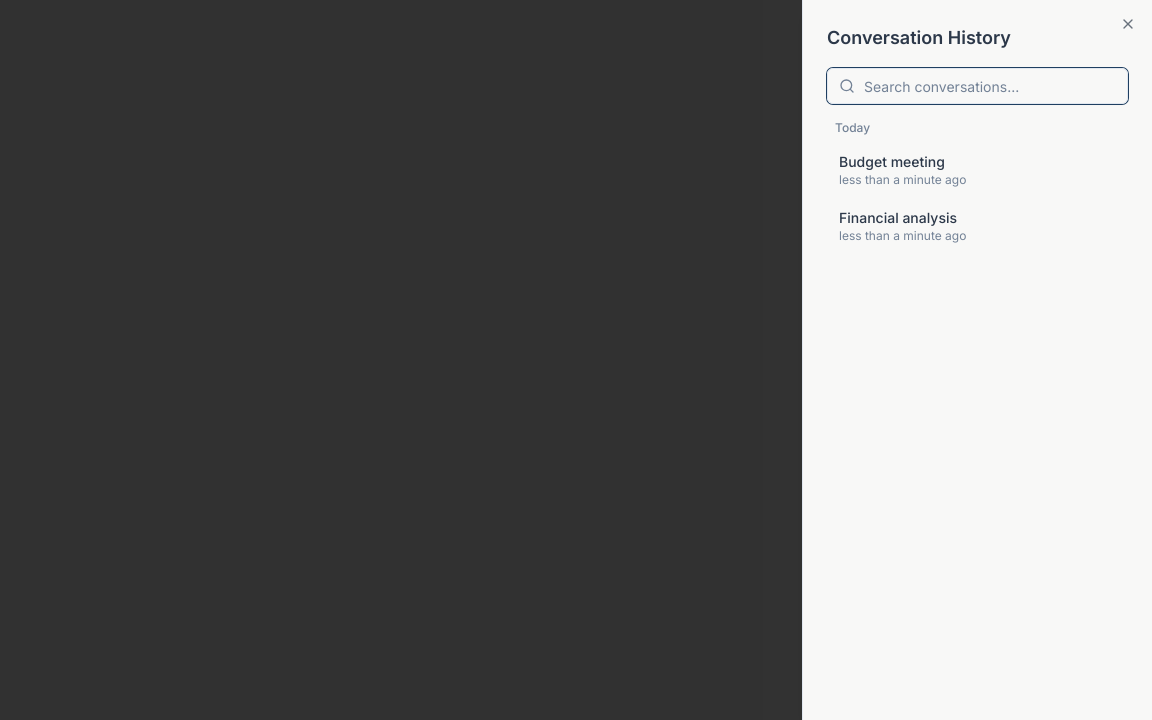
ConversationHistoryPanel › filters conversations by search query
The width and height of the screenshot is (1152, 720).
# Use fireEvent instead of userEvent for fake timers compatibility
Type "budget" into the field with placeholder "Search conversations..." at (978, 86), box x1=827 y1=68 x2=1128 y2=104
Wait 300 ms
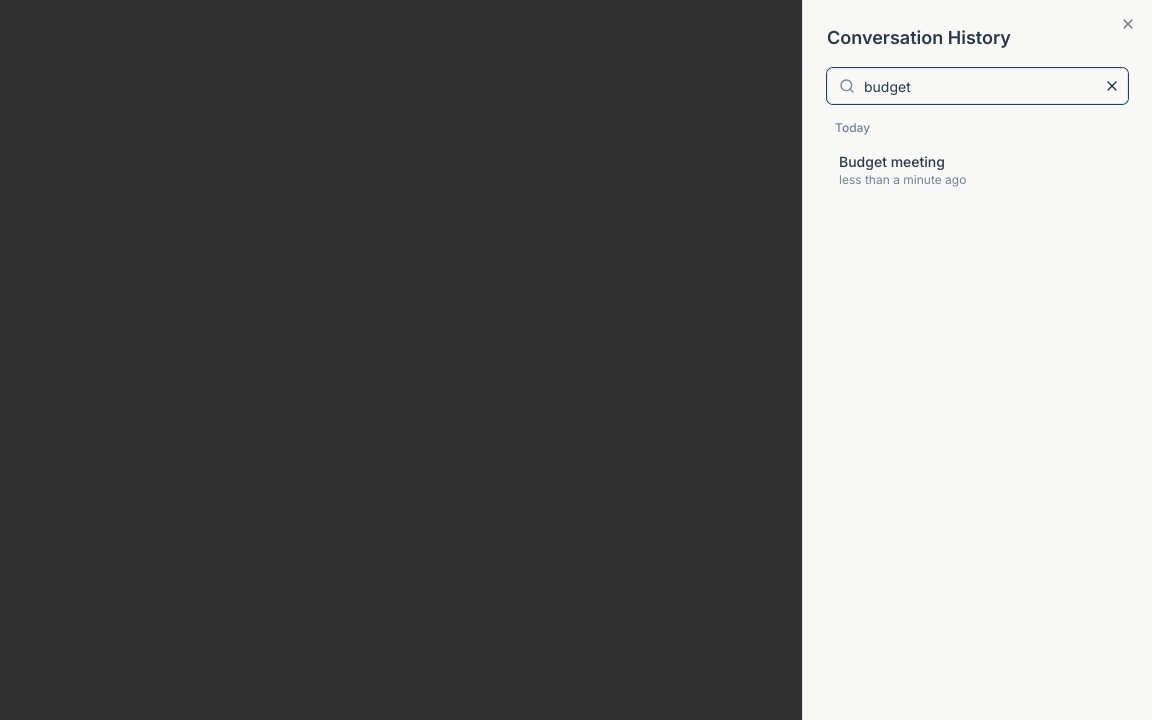
Expected: the text "Budget meeting" is shown, x1=839 y1=153 x2=945 y2=170
Now the button "Financial analysis" is gone
